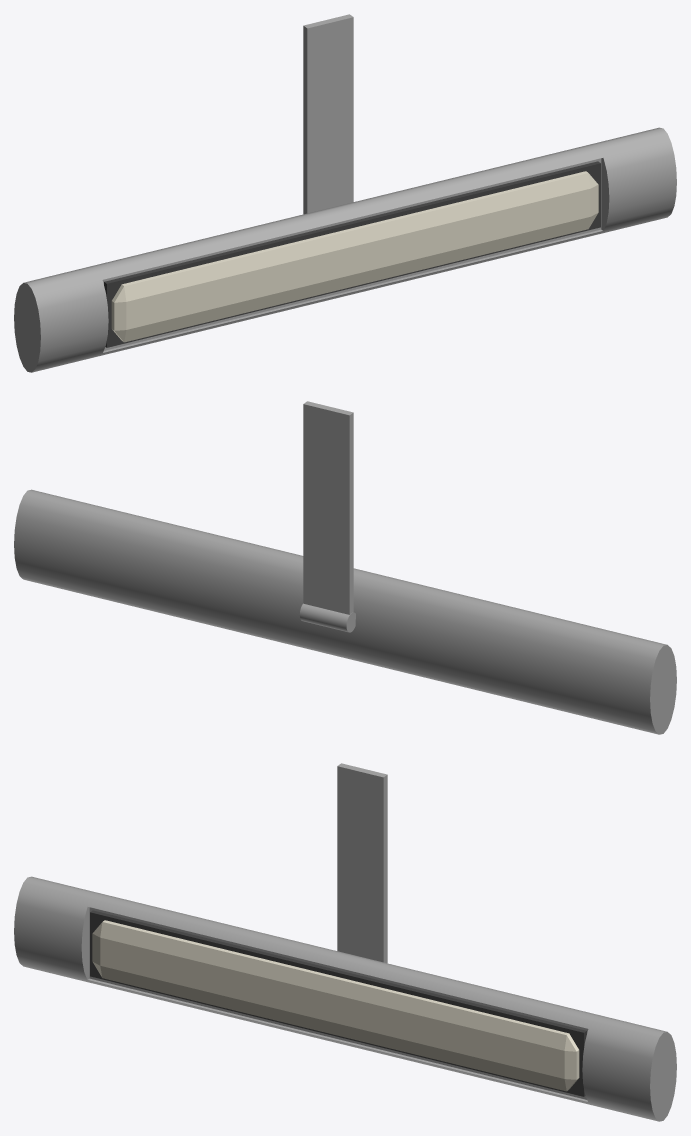
File: signs.fbx
3 views of the same model, one above another, from view 1: azimuth 30°, elevation 25°; view 2: azimuth 150°, elevation 25°; view 3: azimuth 330°, elevation 25° (orthographic).
Parts seen in each view (by area): view 1: polySurface1; view 2: polySurface1; view 3: polySurface1.
Part boxes in pixels (x1,y1,x2,y2): polySurface1: [14, 14, 676, 372]; polySurface1: [14, 401, 676, 734]; polySurface1: [14, 763, 676, 1121].
Size of the model in its own units: 318 by 124 by 30.99.
